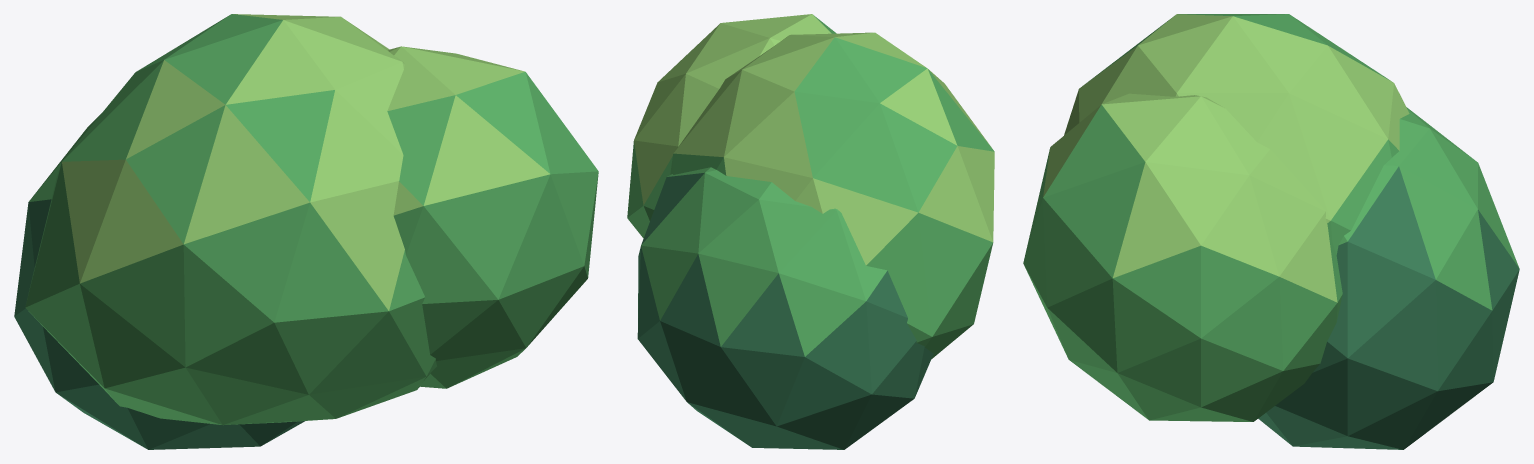
Rendered from bush_round_c.glb.
The picture shows the model from 3 angles, left to right: view 1: azimuth 30°, elevation 25°; view 2: azimuth 150°, elevation 25°; view 3: azimuth 270°, elevation 25°; orthographic projection. The views are drawn at different scales.
Visible parts, largest first — view 1: BushRoundC; view 2: BushRoundC; view 3: BushRoundC.
Boxes of the visible parts, <box> form: BushRoundC: <box>14,14,598,449</box>; BushRoundC: <box>627,14,994,449</box>; BushRoundC: <box>1023,14,1519,449</box>.
Bounding box in the file's own units: 1.21 × 1.08 × 1.21.
